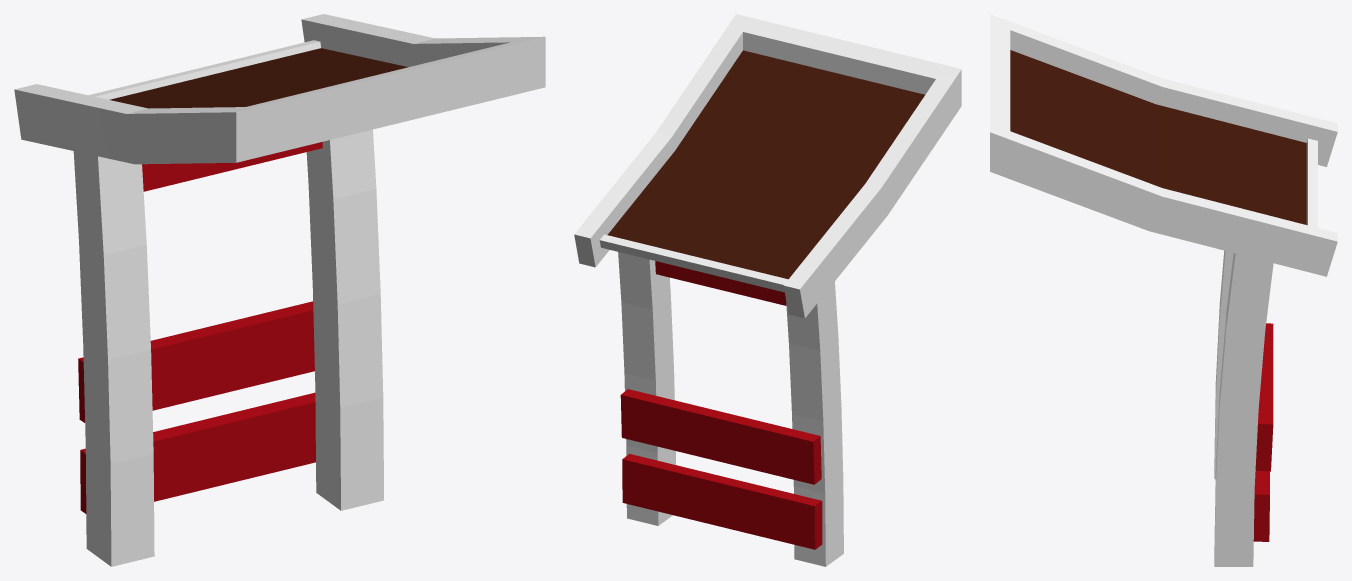
File: Animal_Shed_Straight_FULL (2).fbx
3 views of the same model, side by side, from view 1: azimuth 30°, elevation 25°; view 2: azimuth 150°, elevation 25°; view 3: azimuth 270°, elevation 25° (orthographic). The views are drawn at different scales.
Parts seen in each view (by area): view 1: Straight; view 2: Straight; view 3: Straight.
Boxes of the visible parts, x1,y1,x2,y2 form: Straight: (14,14,545,566); Straight: (574,14,961,566); Straight: (990,14,1337,566).
Bounding box in the file's own units: 108 × 188 × 134.
